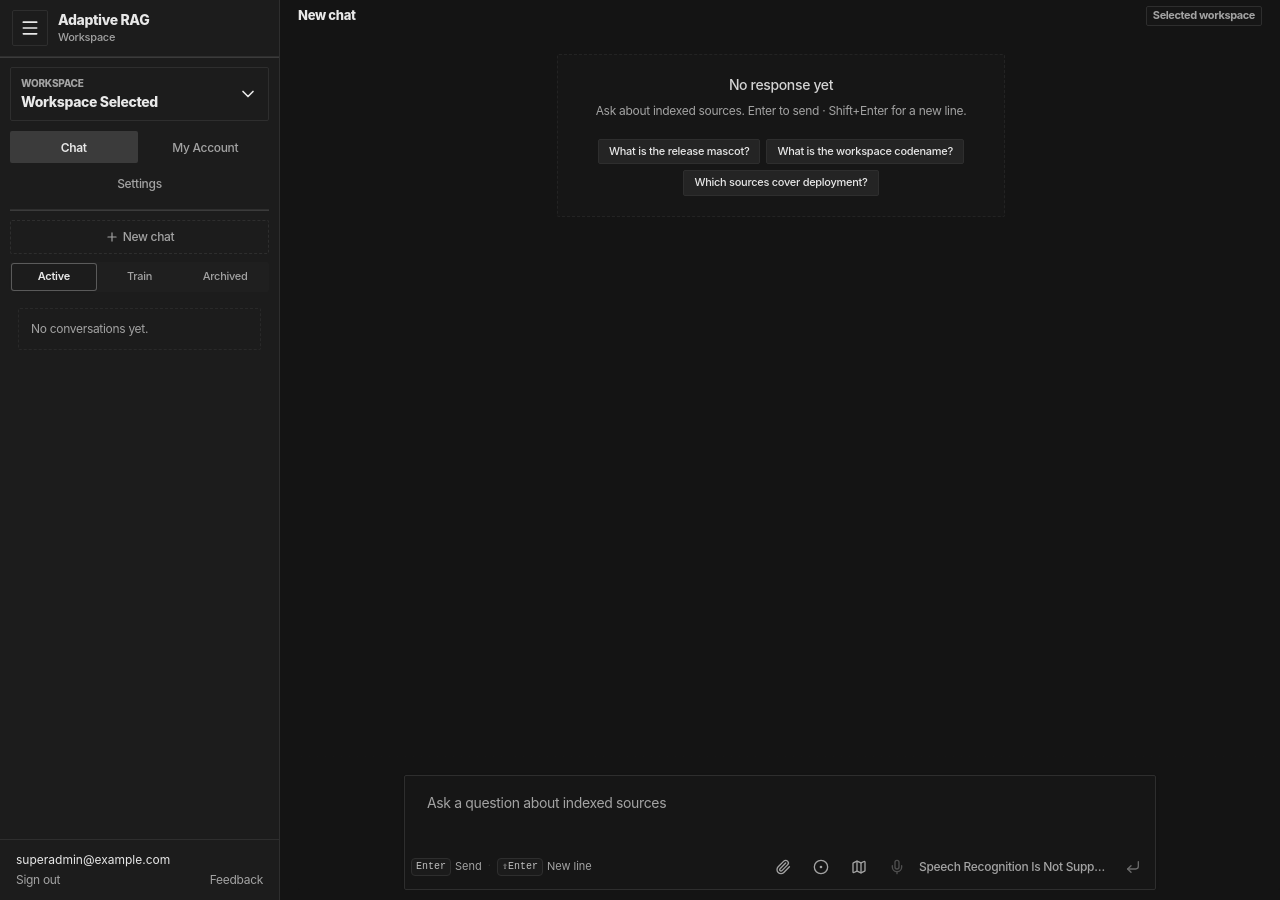
Test: App chat workspace › opens and closes the left sidebar with the burger control
The width and height of the screenshot is (1280, 900).
Click the button named "Collapse Left Sidebar". click: (30, 28)
box: [12,10,48,46]
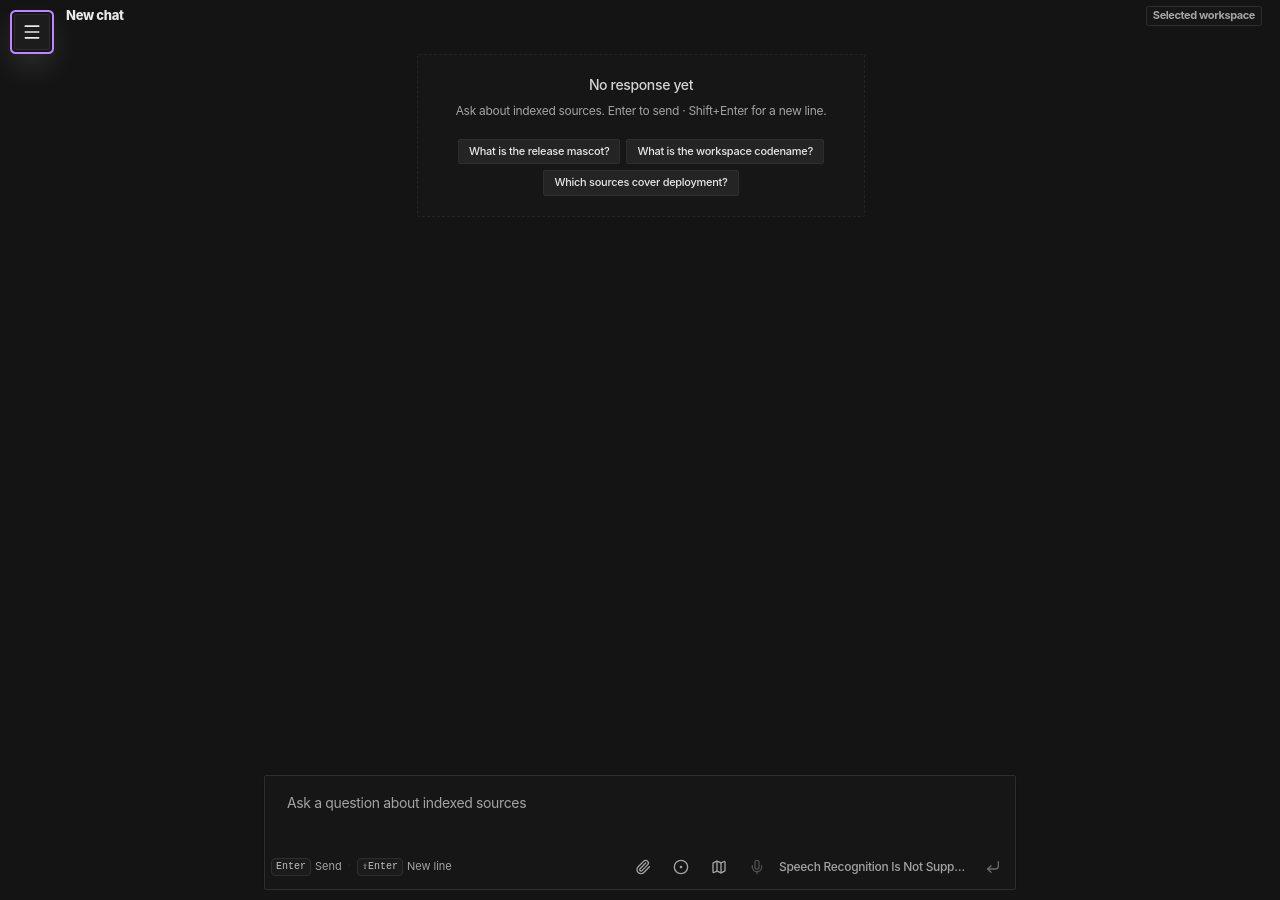
Check: the button named "Collapse Left Sidebar" is collapsed, box [14,14,50,50]
